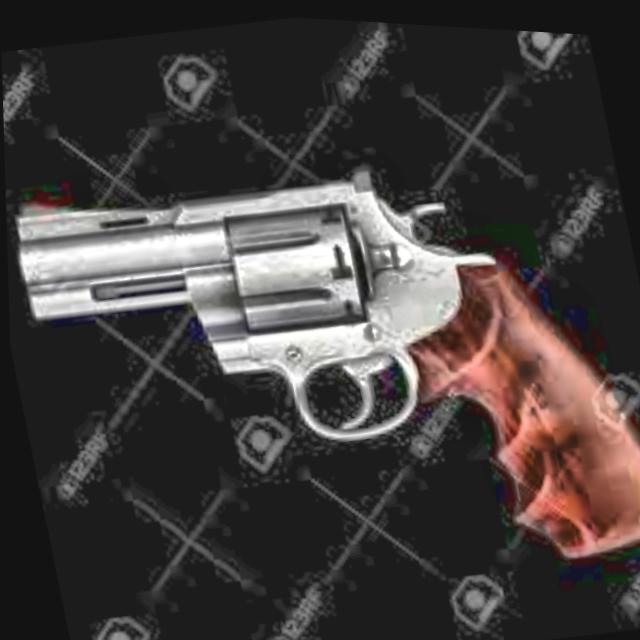pistol: (2, 91, 640, 640)
